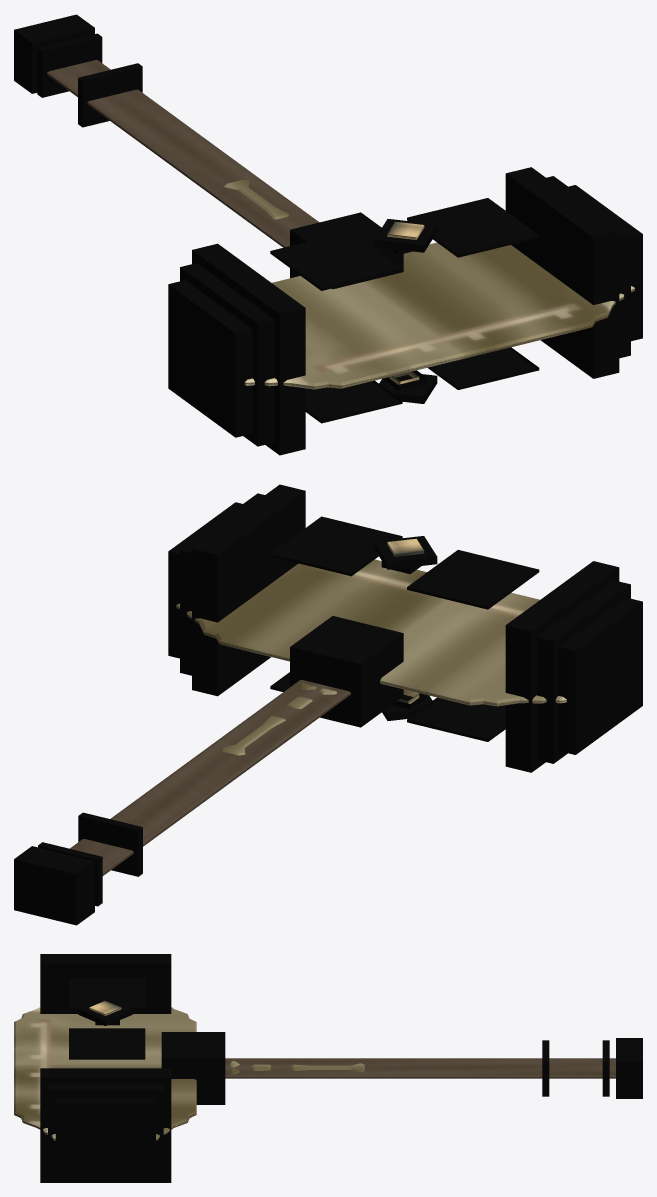
File: thunder_bronze_hammer.obj
3 views of the same model, one above another, from view 1: azimuth 30°, elevation 25°; view 2: azimuth 150°, elevation 25°; view 3: azimuth 270°, elevation 25° (orthographic). The views are drawn at different scales.
Parts seen in each view (by area): view 1: thunder_bronze_hammer; view 2: thunder_bronze_hammer; view 3: thunder_bronze_hammer.
Boxes of the visible parts, box(x1,y1,x2,y2) form: thunder_bronze_hammer: box(14, 14, 642, 455); thunder_bronze_hammer: box(14, 484, 642, 925); thunder_bronze_hammer: box(14, 954, 642, 1182).
Bounding box in the file's own units: 0.69 × 0.2652 × 1.24.
